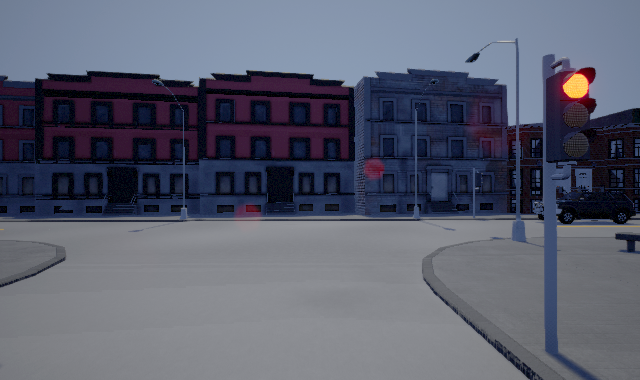traffic_light: (546, 57, 597, 180)
vehicle: (533, 191, 636, 225)
